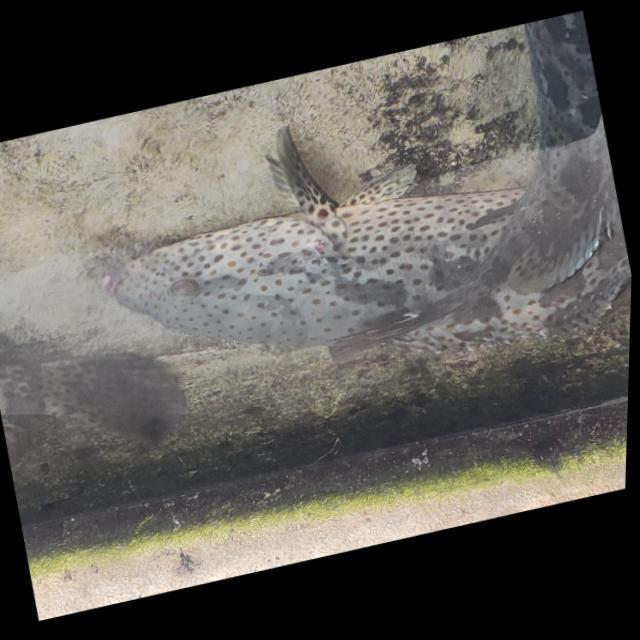Groupers: (94, 151, 595, 397)
